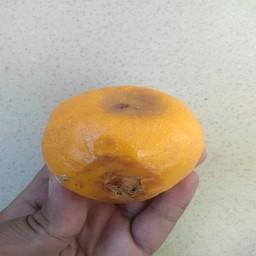Bad_orange: (36, 81, 205, 201)
